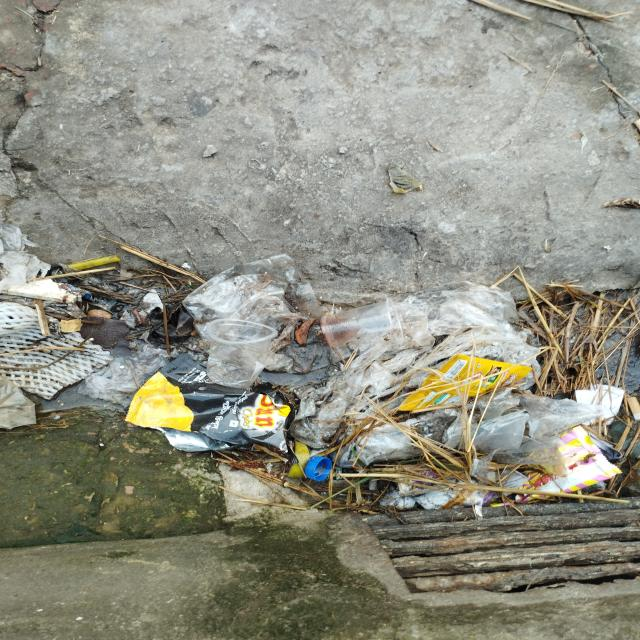plastic: (202, 322, 277, 386), (324, 301, 406, 351)
